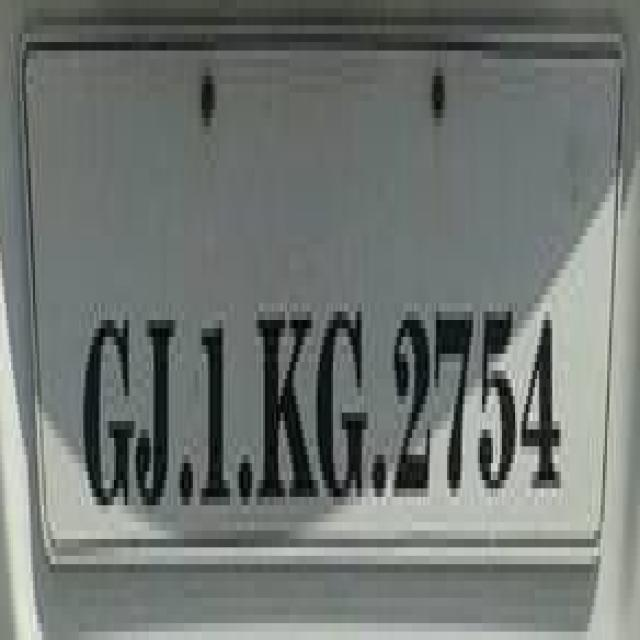license_plate: (18, 8, 602, 564)
